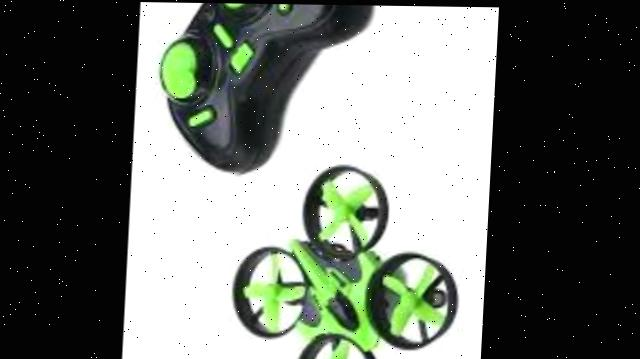drone: (226, 154, 475, 359)
